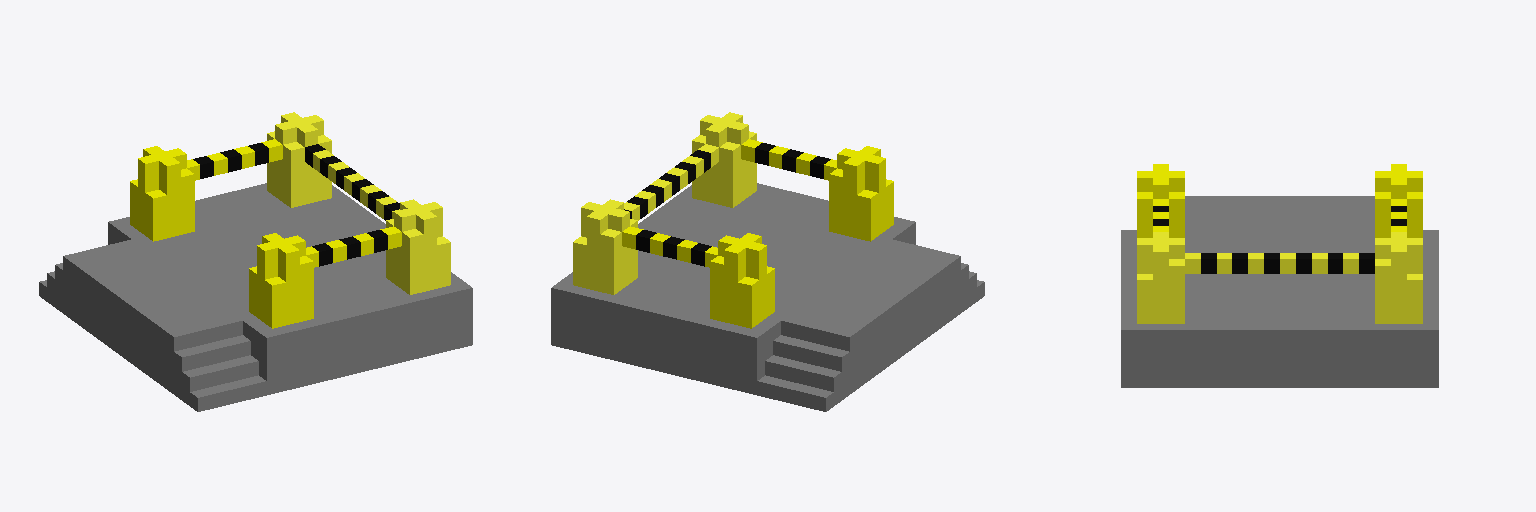
3 views of the same model, side by side, from view 1: azimuth 30°, elevation 25°; view 2: azimuth 150°, elevation 25°; view 3: azimuth 270°, elevation 25° (orthographic).
Parts seen in each view (by area): view 1: Seperator; view 2: Seperator; view 3: Seperator.
Boxes of the visible parts, box(x1,y1,x2,y2) form: Seperator: box(39, 112, 472, 411); Seperator: box(551, 112, 984, 411); Seperator: box(1121, 164, 1438, 387).
Bounding box in the file's own units: 20 × 9 × 20.
1 materials, 1 textured.